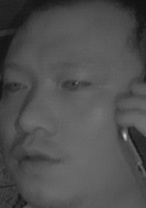eye: (59, 74, 93, 95), (5, 77, 29, 93)
mouth: (14, 144, 61, 173)
